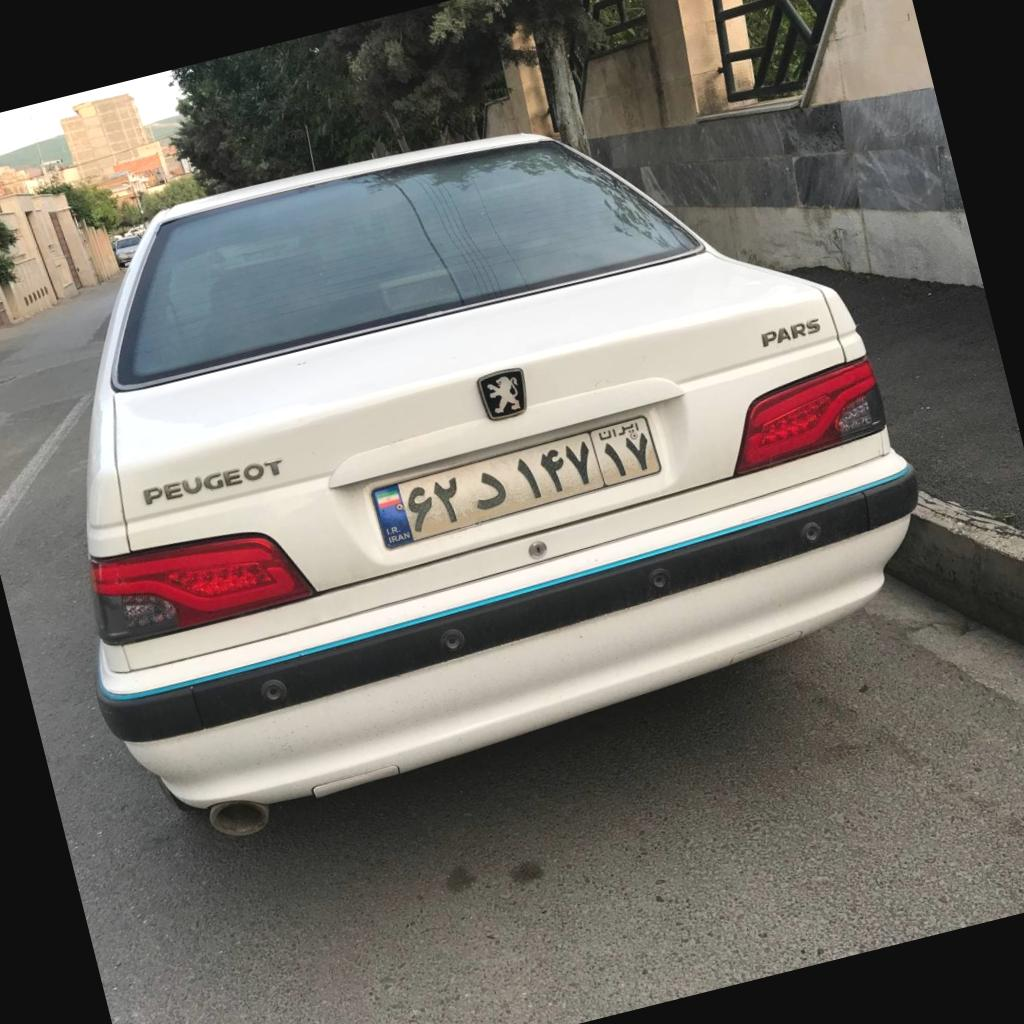Plates: (371, 415, 661, 548)
